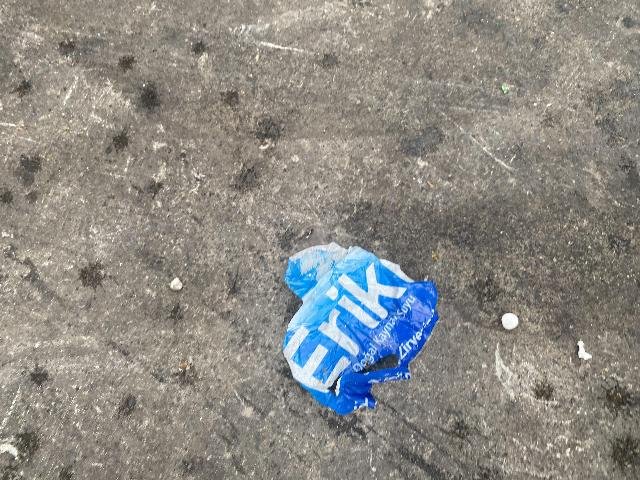Plastik: (271, 243, 444, 419)
